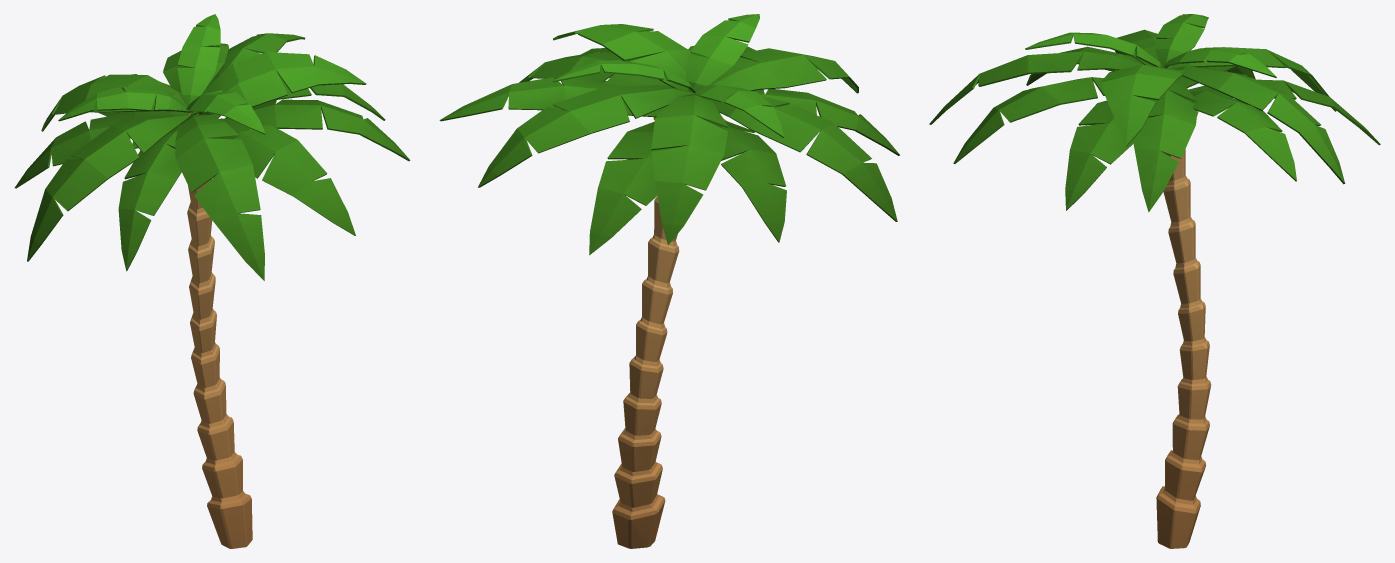
File: palm_straight.glb
3 renders of one model, left to right at view 1: azimuth 30°, elevation 25°; view 2: azimuth 150°, elevation 25°; view 3: azimuth 270°, elevation 25°, orthographic. The views are drawn at different scales.
Parts seen in each view (by area): view 1: Palm_3_AA; view 2: Palm_3_AA; view 3: Palm_3_AA.
Part boxes in pixels (bbox=[...]): Palm_3_AA: bbox=[14, 14, 410, 548]; Palm_3_AA: bbox=[439, 14, 899, 548]; Palm_3_AA: bbox=[929, 14, 1380, 548].
Size of the model in its own units: 3.93 by 5 by 4.19.
1 material, 1 textured.
